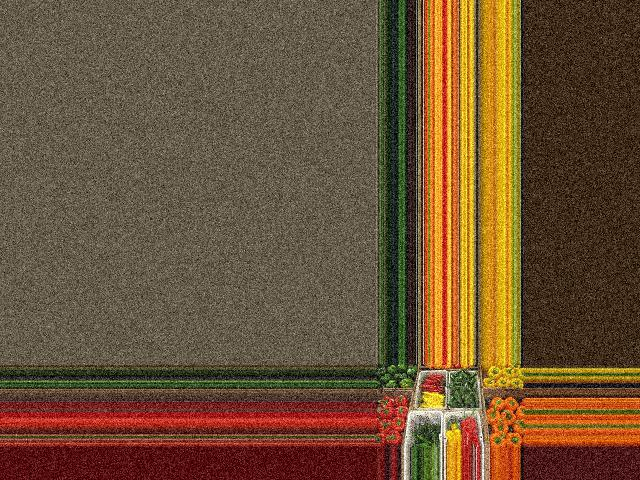bell_pepper: (384, 375, 398, 390)
